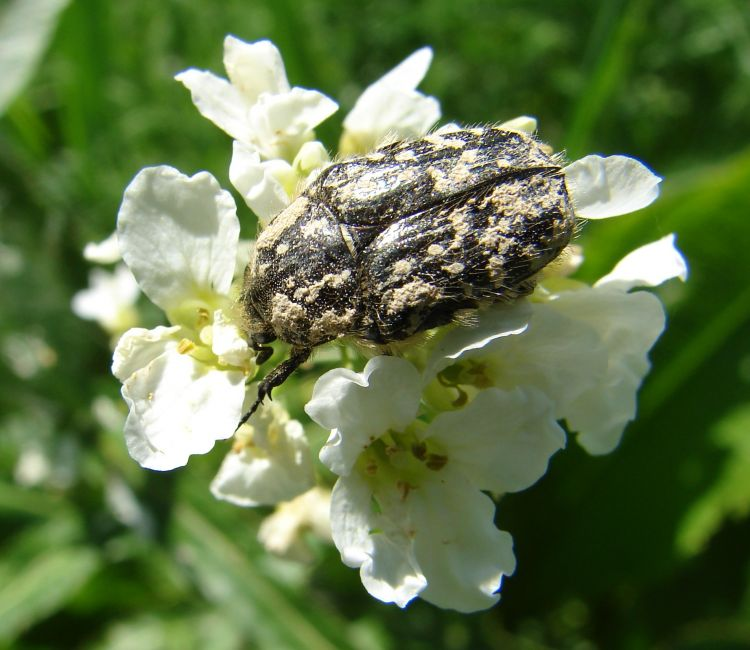Oxythyrea_funesta: (209, 103, 593, 439)
